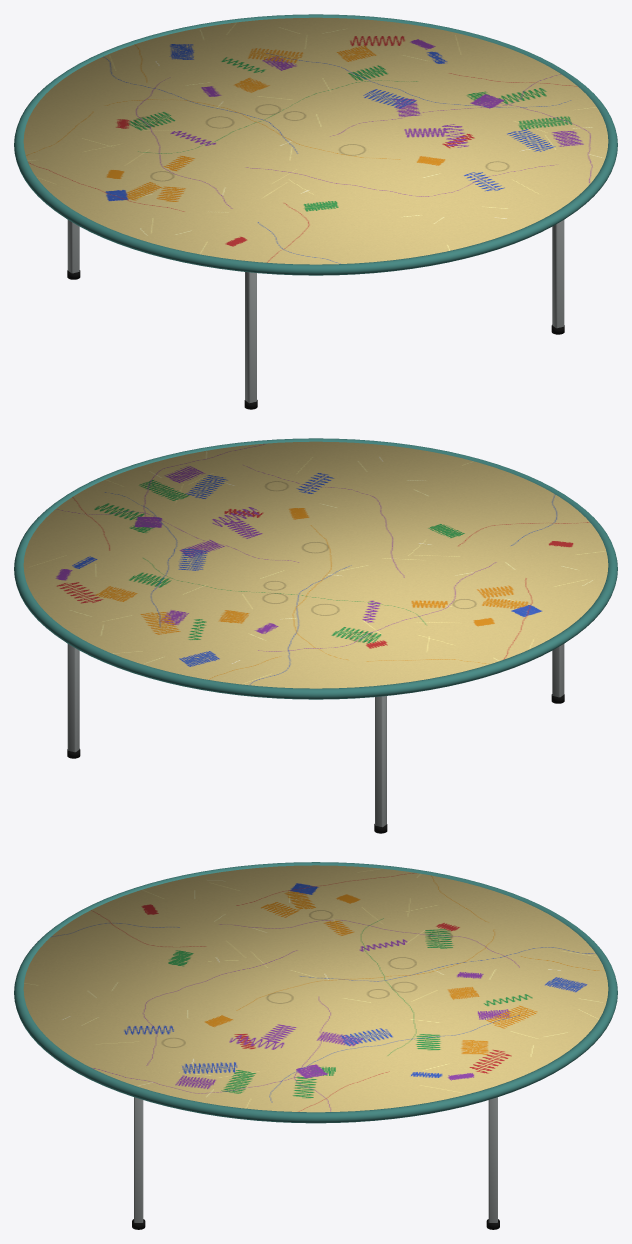
File: craft-table.glb
3 renders of one model, top to bottom at view 1: azimuth 30°, elevation 25°; view 2: azimuth 150°, elevation 25°; view 3: azimuth 270°, elevation 25°, orthographic.
Visible parts, largest first — view 1: Zylinder, Torus, Würfel, Würfel.002, Würfel.001; view 2: Zylinder, Torus, Würfel.001, Würfel.003, Würfel; view 3: Zylinder, Torus, Würfel.002, Würfel.003.
Part boxes in pixels (x1,y1,x2,y2): Zylinder: (23,17,608,264); Torus: (14,14,617,275); Würfel: (245,272,256,403); Würfel.002: (552,220,564,328); Würfel.001: (67,220,79,273); Zylinder: (23,441,608,688); Torus: (14,438,617,699); Würfel.001: (375,696,386,827); Würfel.003: (67,644,79,752); Würfel: (552,644,564,697); Zylinder: (23,865,608,1112); Torus: (14,862,617,1123); Würfel.002: (134,1097,143,1222); Würfel.003: (488,1097,497,1222).
Size of the model in its own units: 2.21 by 0.6648 by 2.21.
4 materials, 1 textured.
